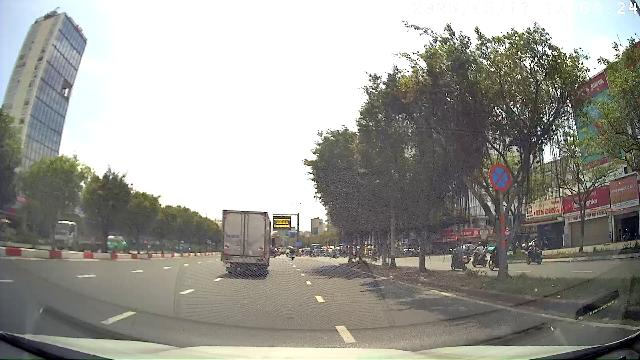130-cam-dung-va-do-xe: (489, 164, 512, 192)
